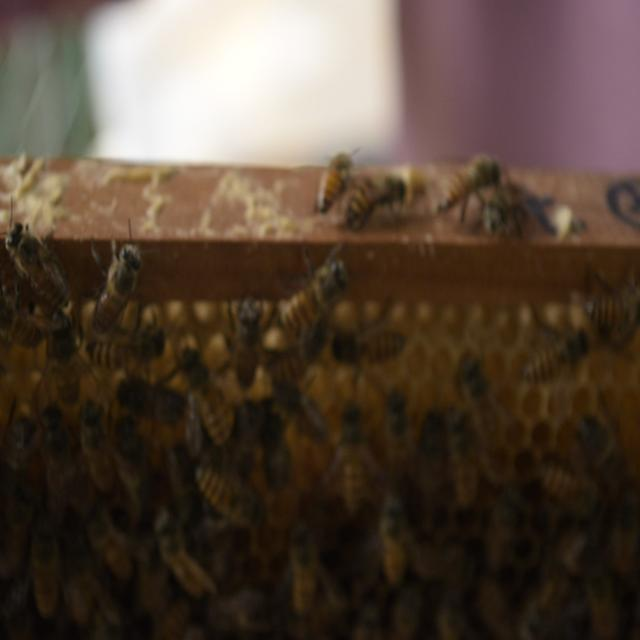honeybee: (517, 302, 588, 392), (406, 400, 472, 491), (18, 229, 78, 326), (556, 254, 633, 325), (71, 402, 124, 504), (574, 406, 636, 489), (81, 248, 148, 318), (333, 404, 374, 514), (291, 255, 343, 338), (84, 326, 162, 381), (185, 456, 246, 526), (525, 440, 581, 510), (159, 515, 217, 581), (182, 349, 223, 440), (454, 347, 500, 427), (351, 157, 398, 235), (340, 318, 393, 386), (238, 382, 296, 443), (377, 574, 429, 640), (312, 126, 346, 222), (493, 499, 538, 570), (42, 402, 75, 496), (227, 286, 270, 356), (445, 571, 488, 640), (294, 525, 322, 629), (555, 555, 592, 632), (590, 568, 634, 632), (126, 368, 171, 430), (373, 387, 412, 458), (201, 593, 255, 640), (67, 561, 98, 640), (446, 133, 478, 206), (0, 408, 32, 478), (384, 510, 416, 576), (514, 573, 546, 638), (592, 511, 640, 554), (33, 539, 54, 635), (98, 532, 128, 594)
